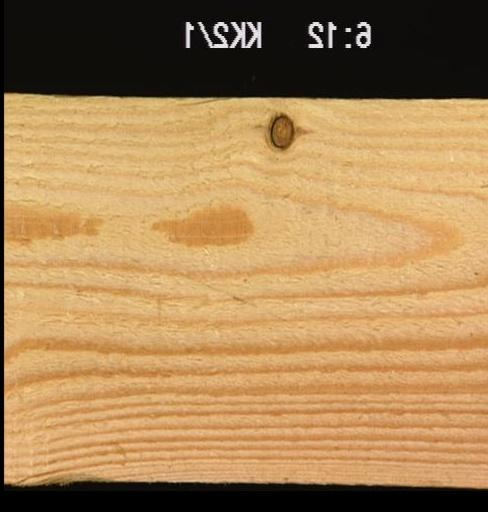dry_knot: (267, 111, 294, 148)
split: (168, 94, 226, 105)
wave: (2, 474, 119, 487)
